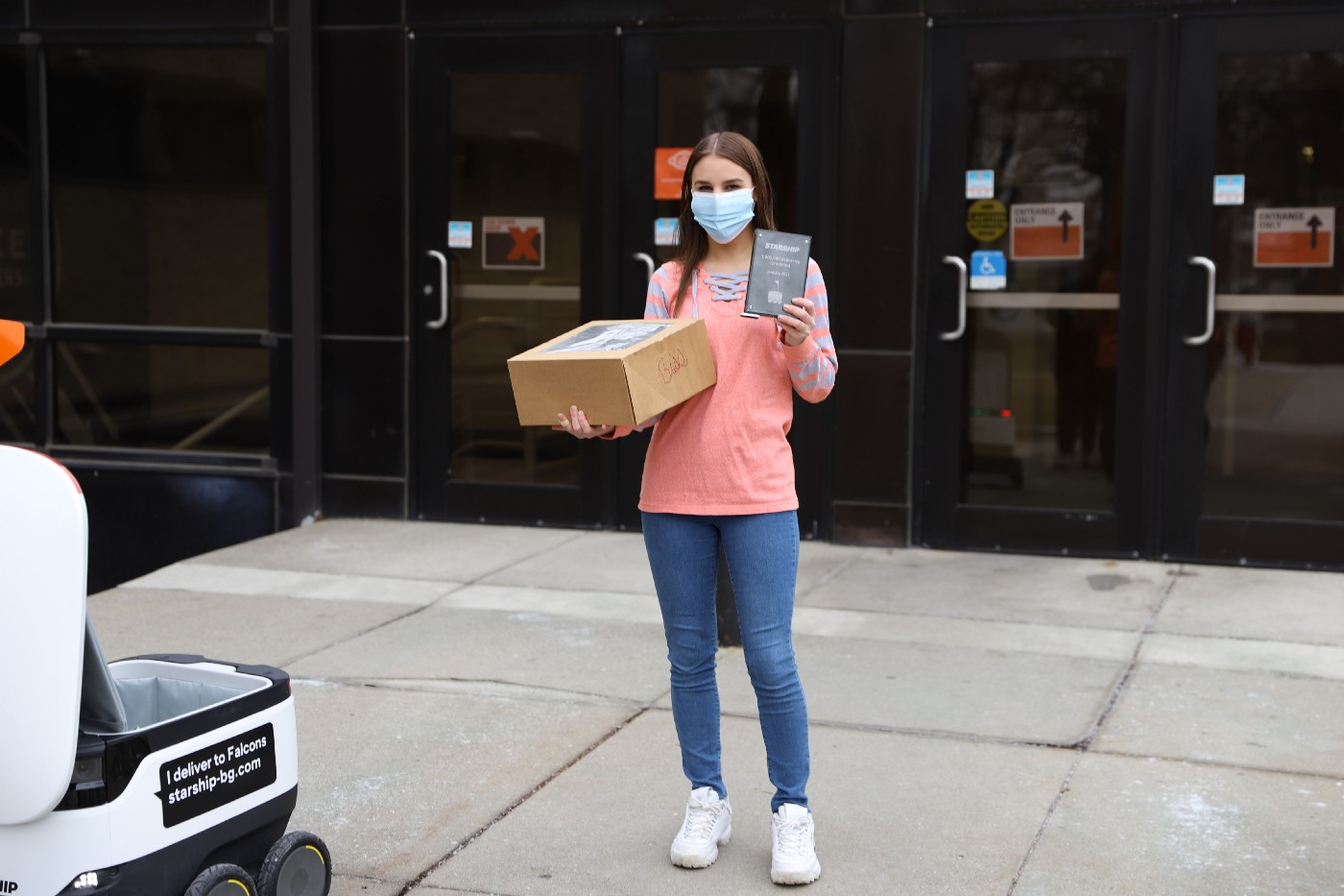DeliveryBox: (486, 285, 723, 455)
Person: (623, 130, 830, 879)
